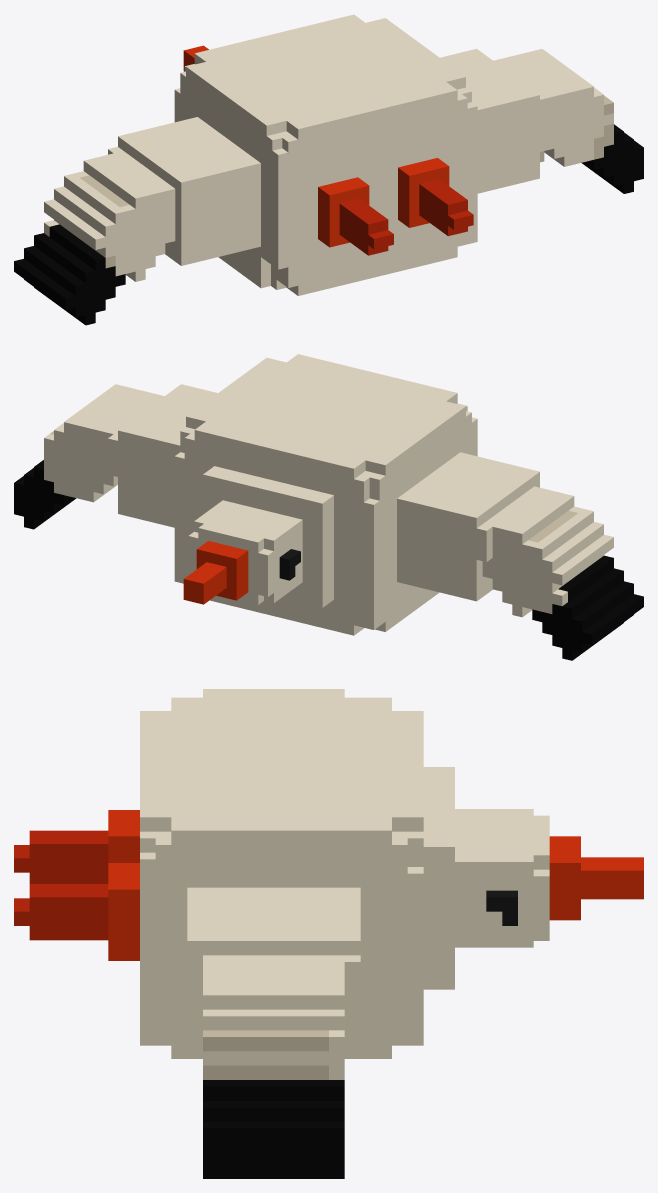
File: seagull_1.obj
The picture shows the model from 3 angles, top to bottom: view 1: azimuth 30°, elevation 25°; view 2: azimuth 150°, elevation 25°; view 3: azimuth 270°, elevation 25°; orthographic projection. The views are drawn at different scales.
Size of the model in its own units: 58 by 16 by 40.
1 material, 1 textured.
